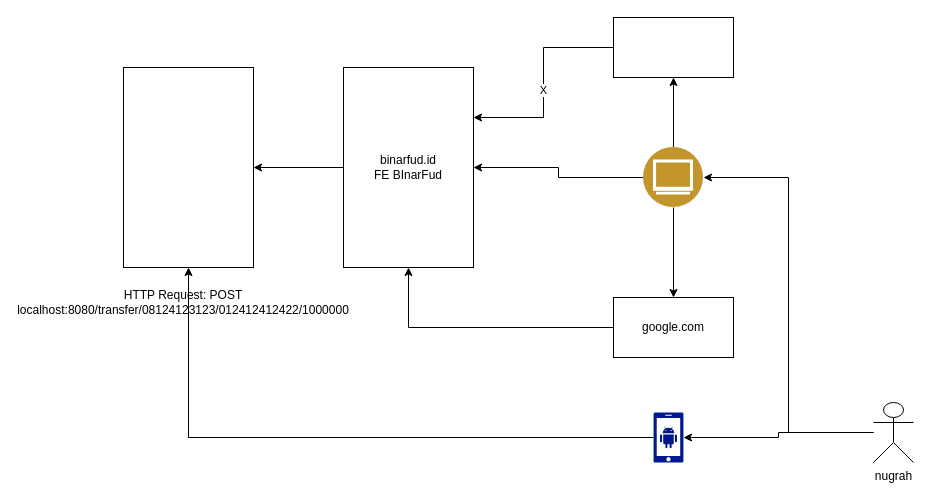
Image size: 931x501. Some labels were removed from this diagram. Here are the shapes that lost their labels. From the top down, the centre of each, then its label:
the point at 673,47: evil.com
the point at 188,167: binarfud-be.id BE BinarFud
